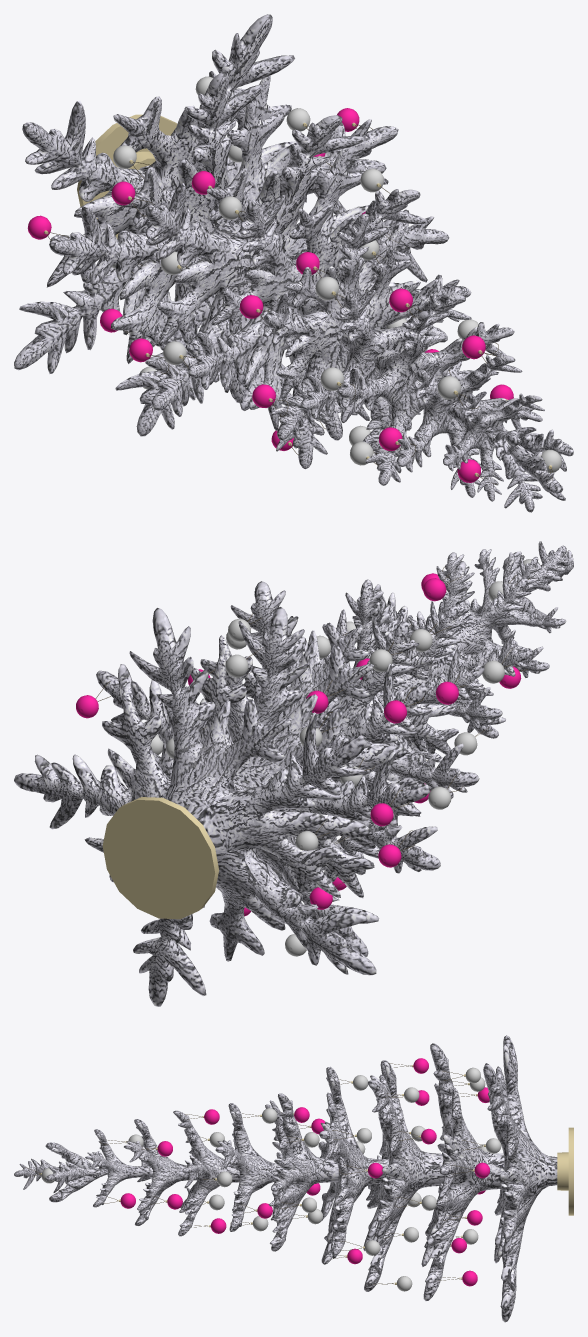
Rendered from Tree.obj.
3 renders of one model, top to bottom at view 1: azimuth 30°, elevation 25°; view 2: azimuth 150°, elevation 25°; view 3: azimuth 270°, elevation 25°, orthographic. The views are drawn at different scales.
Visible parts, largest first — view 1: Christmas_Tree; view 2: Christmas_Tree; view 3: Christmas_Tree.
Boxes of the visible parts, left/top/right/bottom form: Christmas_Tree: left=14, top=14, right=573, bottom=512; Christmas_Tree: left=14, top=541, right=573, bottom=1006; Christmas_Tree: left=14, top=1035, right=573, bottom=1322.
Bounding box in the file's own units: 107 × 106 × 207.
5 materials, 1 textured.
